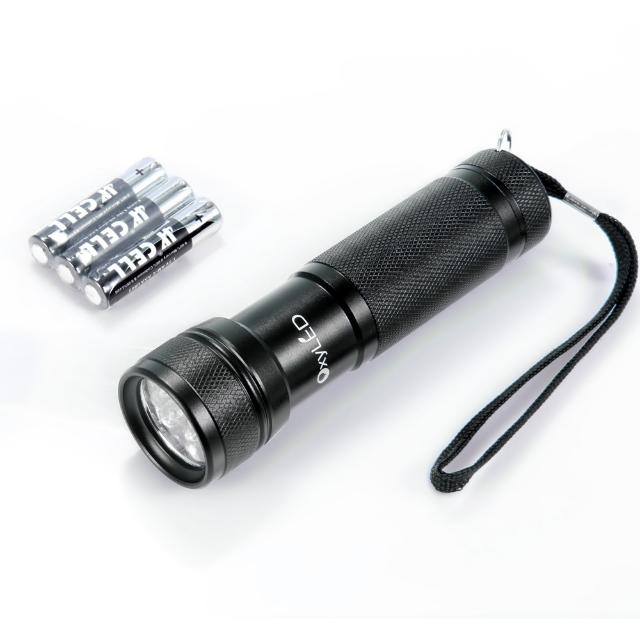Flashlight: (108, 123, 640, 501)
